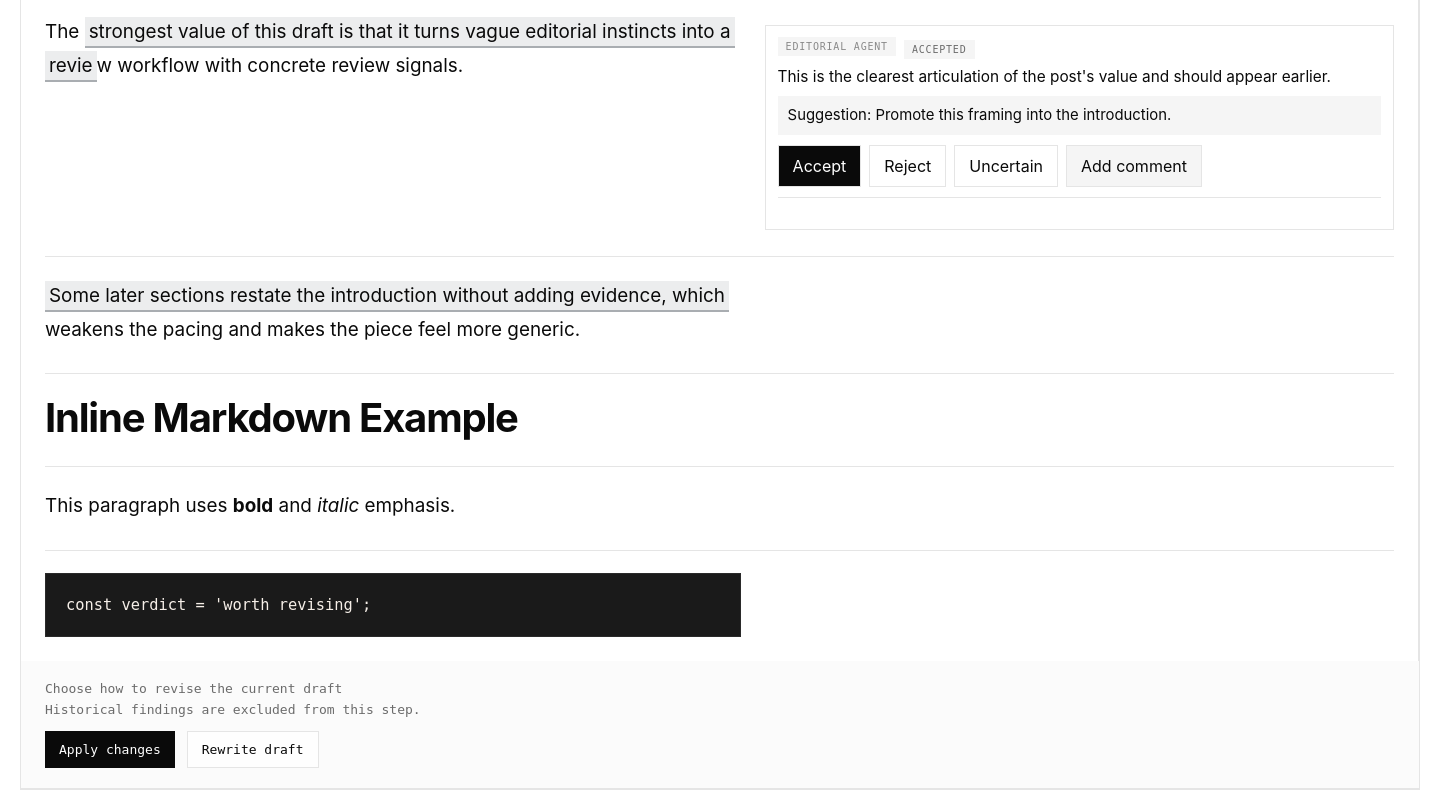
ReviewWorkbench › generates a revised markdown candidate and shows the diff review panel
(page scrolled)
Click the button with test id "apply-changes-button-bottom": [110, 749] box [45,731,175,768]
(page scrolled)
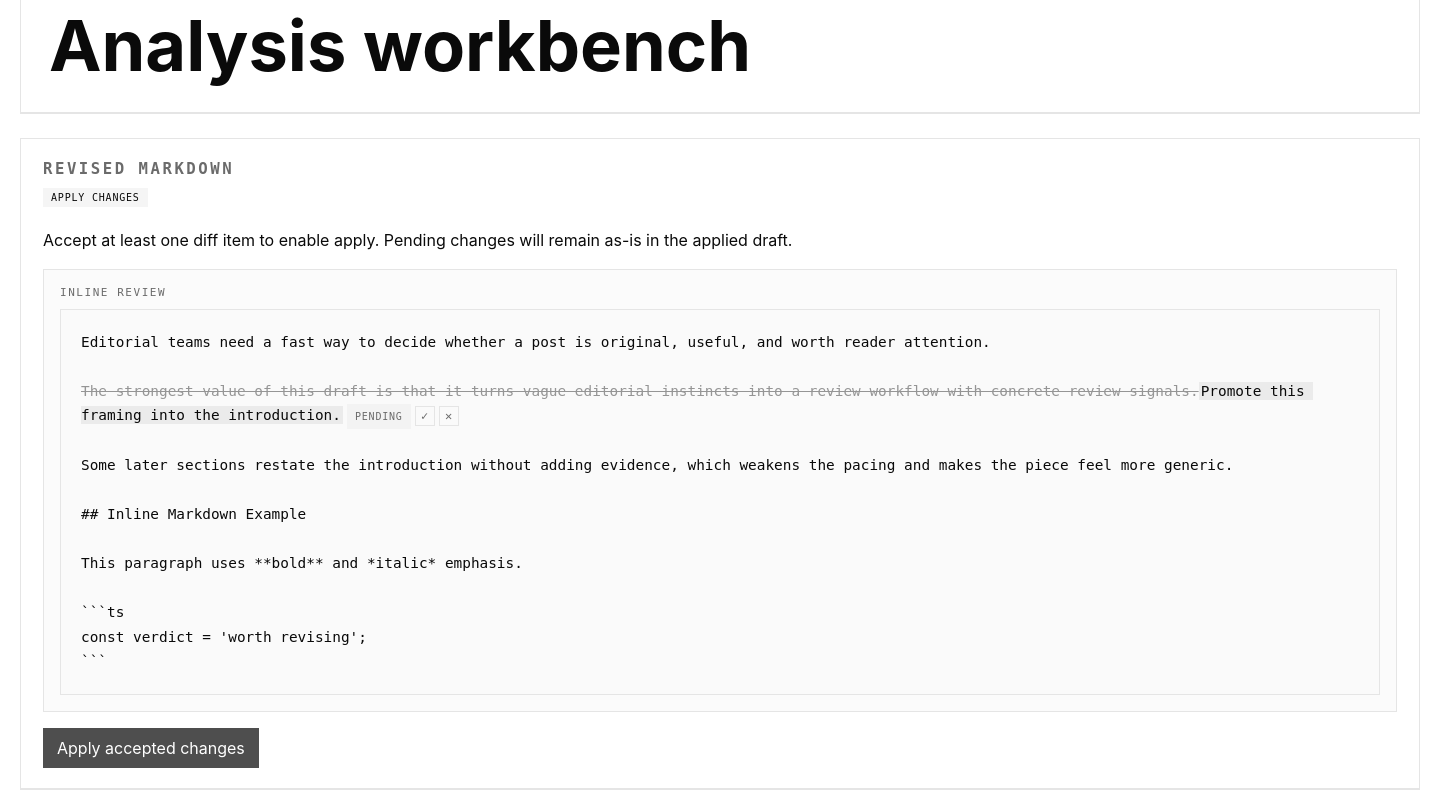
Expected: the element with test id "revised-markdown-panel" is shown
Expected: the text with test id "diff-item-status-diff-1" reads "pending", [355,411,403,422]
Expected: the element with test id "inline-diff-view" is shown, [60,309,1380,695]
